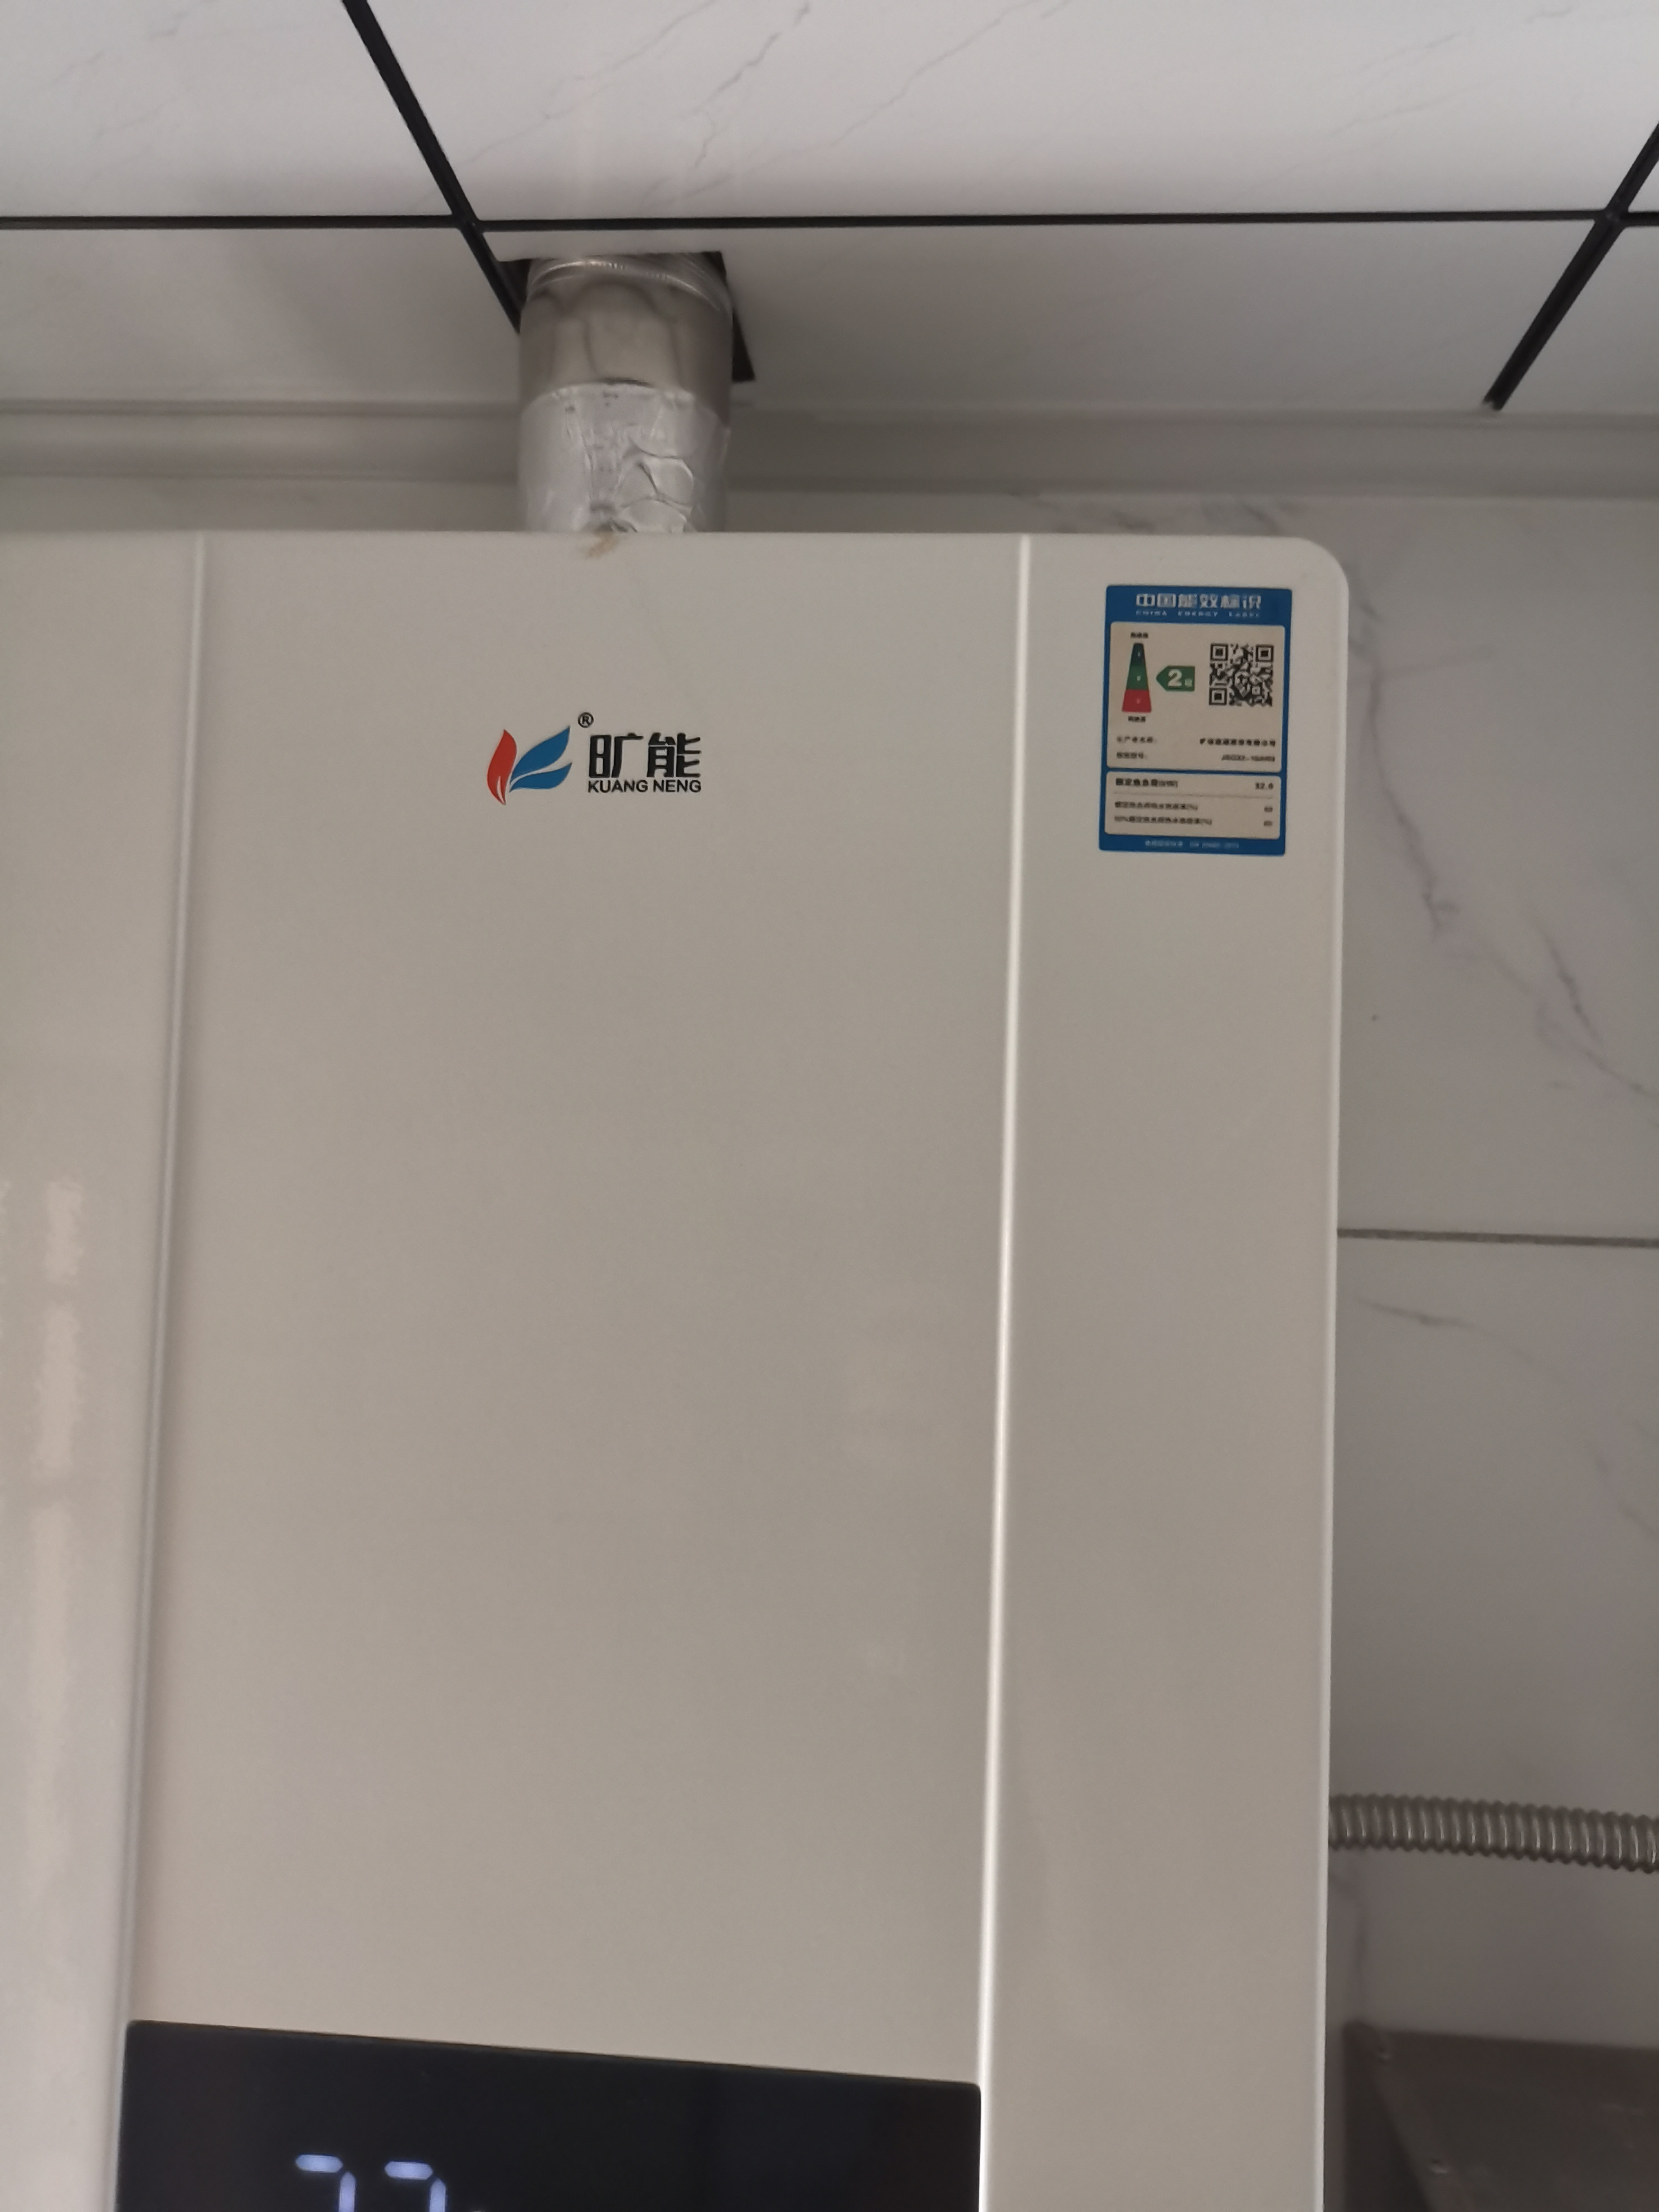loudou: (471, 691, 727, 819)
